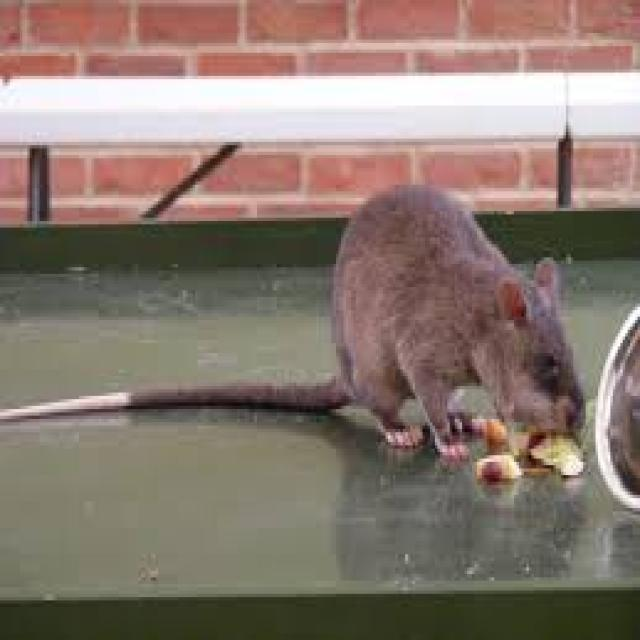Rat: (238, 138, 584, 507)
